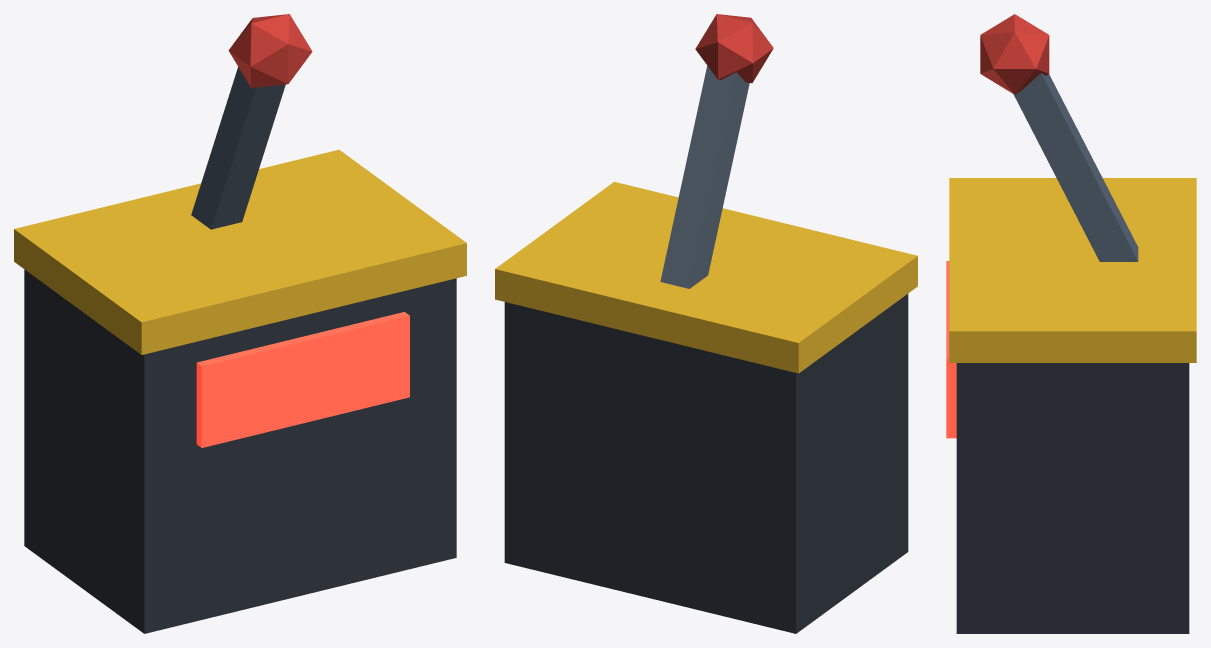
The model's file is gameplay_shutdown_switch.glb.
3 views of the same model, side by side, from view 1: azimuth 30°, elevation 25°; view 2: azimuth 150°, elevation 25°; view 3: azimuth 270°, elevation 25° (orthographic). The views are drawn at different scales.
Visible parts, largest first — view 1: gameplay_shutdown_switch_steelDark, gameplay_shutdown_switch_yellow, gameplay_shutdown_switch_glowRed, gameplay_shutdown_switch_steel, gameplay_shutdown_switch_red; view 2: gameplay_shutdown_switch_steelDark, gameplay_shutdown_switch_yellow, gameplay_shutdown_switch_steel, gameplay_shutdown_switch_red; view 3: gameplay_shutdown_switch_steelDark, gameplay_shutdown_switch_yellow, gameplay_shutdown_switch_steel, gameplay_shutdown_switch_red, gameplay_shutdown_switch_glowRed.
Boxes of the visible parts, left/top/right/bottom form: gameplay_shutdown_switch_steelDark: left=24, top=269, right=456, bottom=633; gameplay_shutdown_switch_yellow: left=14, top=149, right=466, bottom=354; gameplay_shutdown_switch_glowRed: left=196, top=312, right=409, bottom=447; gameplay_shutdown_switch_steel: left=191, top=67, right=285, bottom=229; gameplay_shutdown_switch_red: left=228, top=14, right=312, bottom=87; gameplay_shutdown_switch_steelDark: left=504, top=294, right=908, bottom=633; gameplay_shutdown_switch_yellow: left=495, top=181, right=917, bottom=373; gameplay_shutdown_switch_steel: left=660, top=66, right=749, bottom=288; gameplay_shutdown_switch_red: left=695, top=14, right=773, bottom=83; gameplay_shutdown_switch_steelDark: left=956, top=363, right=1189, bottom=633; gameplay_shutdown_switch_yellow: left=949, top=178, right=1196, bottom=362; gameplay_shutdown_switch_steel: left=1013, top=73, right=1138, bottom=261; gameplay_shutdown_switch_red: left=980, top=14, right=1049, bottom=94; gameplay_shutdown_switch_glowRed: left=946, top=261, right=956, bottom=438.
Bounding box in the file's own units: 1.25 × 2.04 × 0.86.
